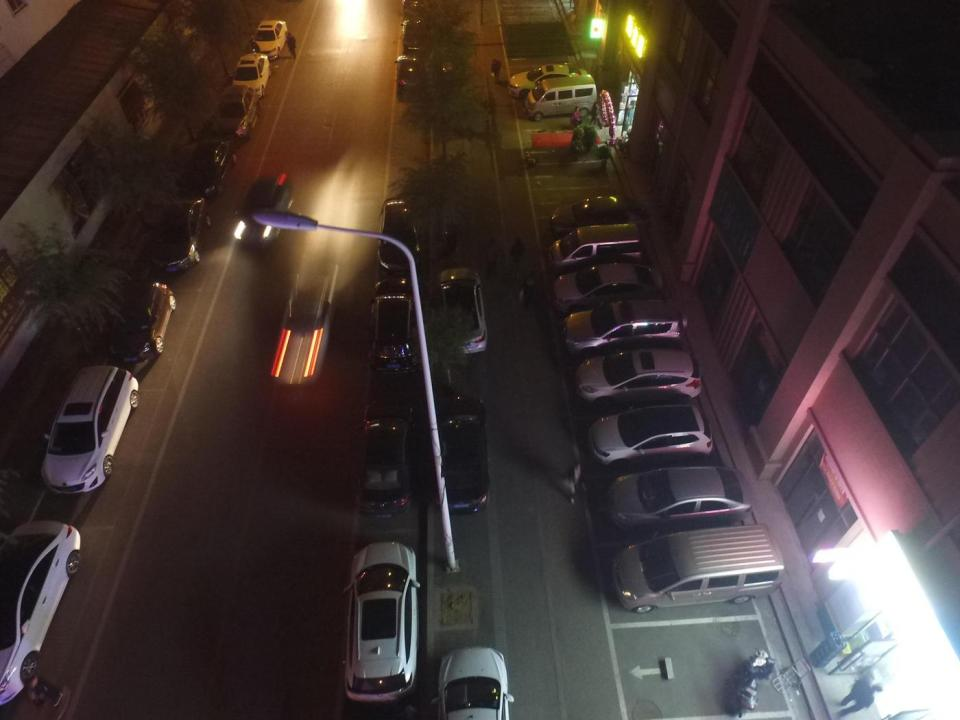car: (0, 521, 80, 708), (41, 365, 139, 494), (343, 542, 421, 703), (610, 466, 753, 530), (270, 263, 339, 384), (589, 405, 714, 467), (356, 398, 418, 518), (578, 347, 702, 407), (433, 395, 489, 514), (430, 646, 514, 718), (554, 262, 662, 316), (110, 282, 175, 366), (150, 196, 212, 271), (436, 268, 487, 354), (234, 173, 293, 244), (551, 195, 648, 238), (180, 135, 236, 198), (378, 196, 422, 274), (508, 64, 588, 101), (233, 53, 270, 99), (252, 20, 287, 60), (394, 55, 426, 92), (401, 18, 430, 52)
van: (613, 524, 784, 614), (561, 299, 687, 356), (369, 278, 424, 374), (549, 223, 641, 279), (524, 75, 596, 121), (214, 84, 260, 142)
